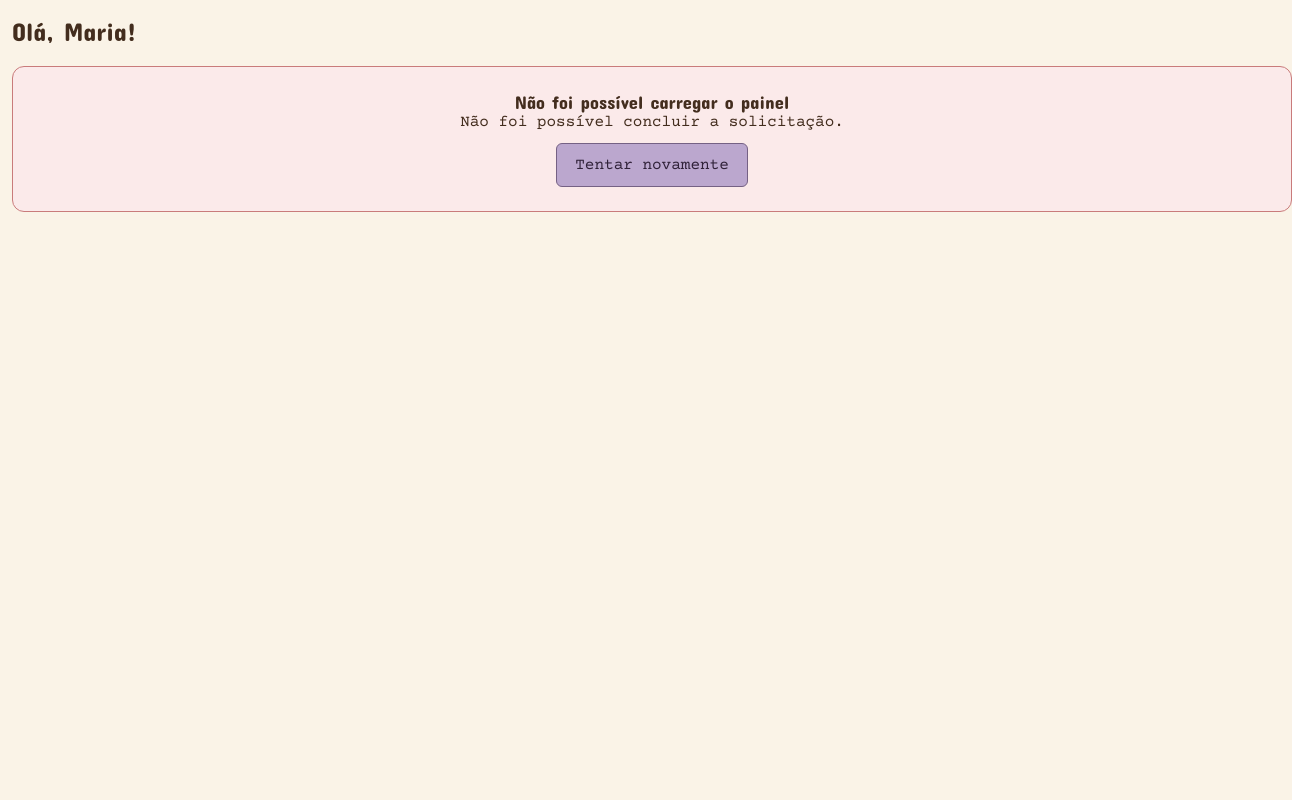
Scenario: Início › mostra o erro e permite tentar novamente
The width and height of the screenshot is (1292, 800).
expect the message shows "Não foi possível carregar o painel": met, box [515,91,789,113]
Click the button "Tentar novamente" at (652, 165), box [556,143,748,187]
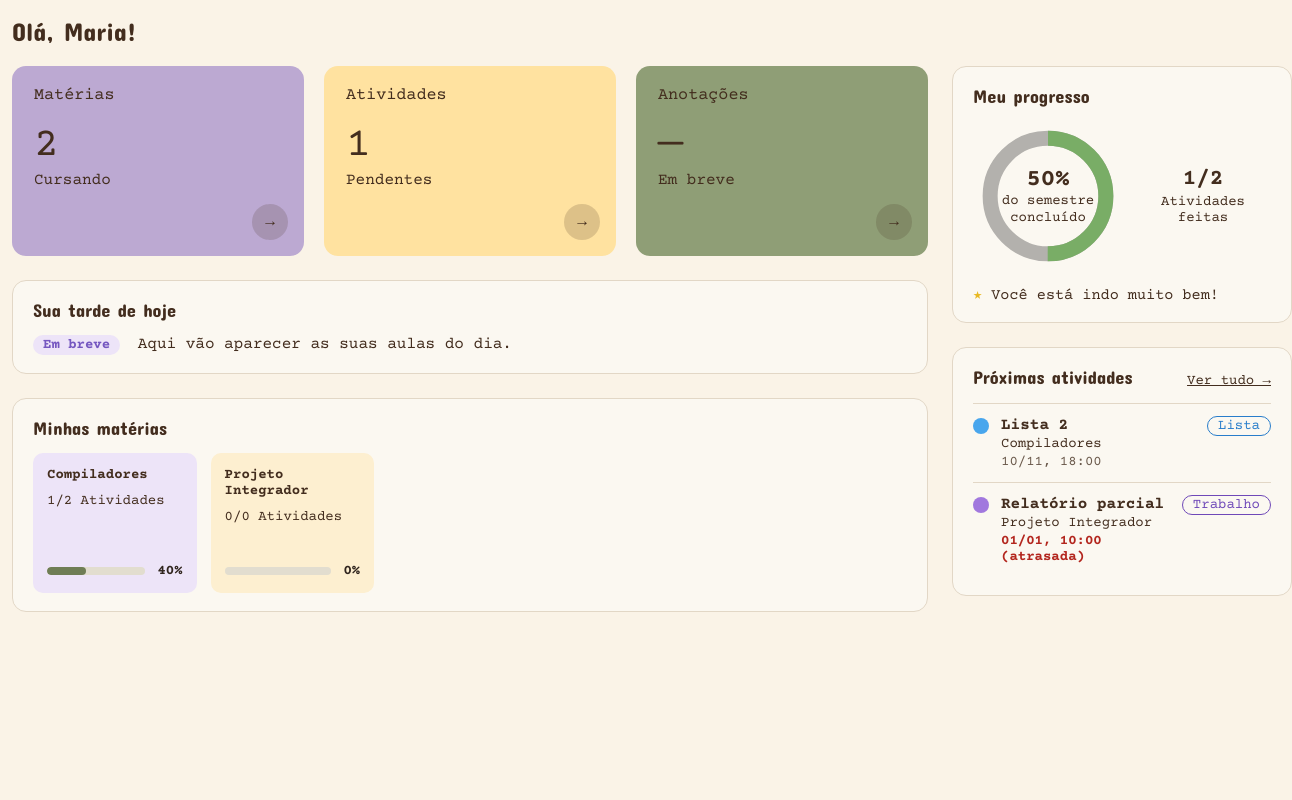
expect the link "Compiladores 1/2 Atividades 40%" is shown: met, box [33,453,197,593]
